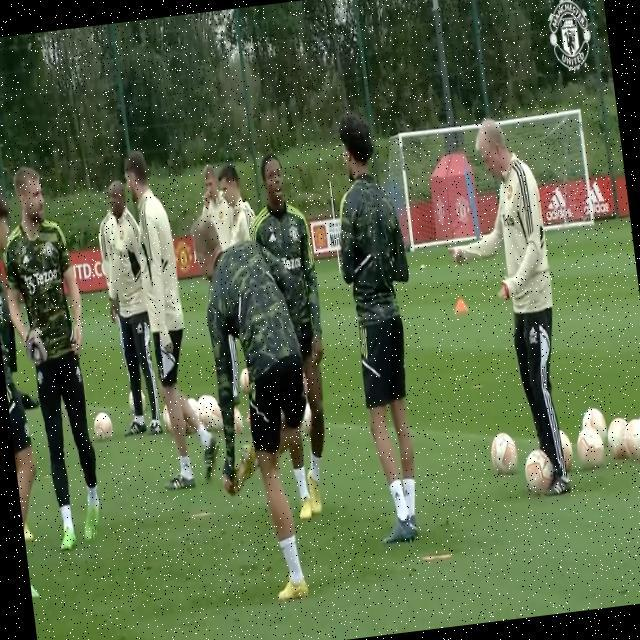Adidas: (542, 176, 614, 224), (527, 323, 538, 340), (268, 227, 278, 244)
